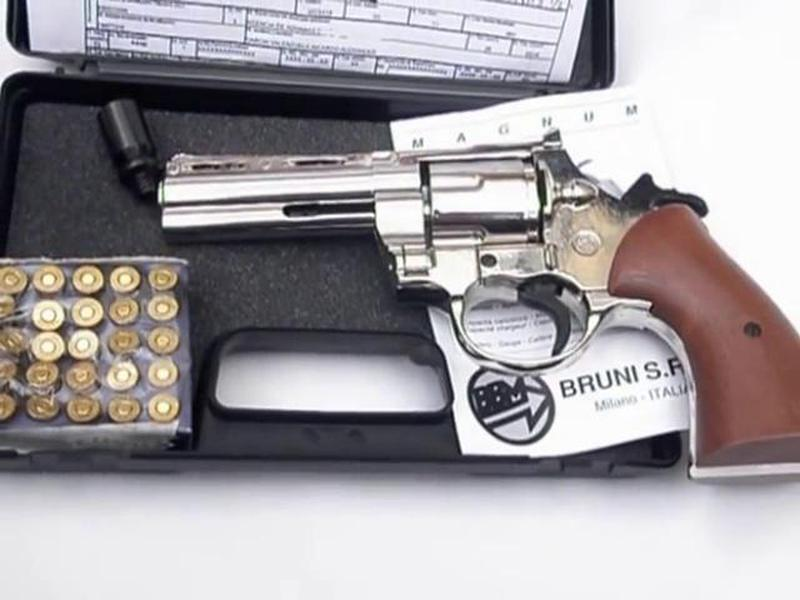Revolver: (157, 125, 773, 386)
